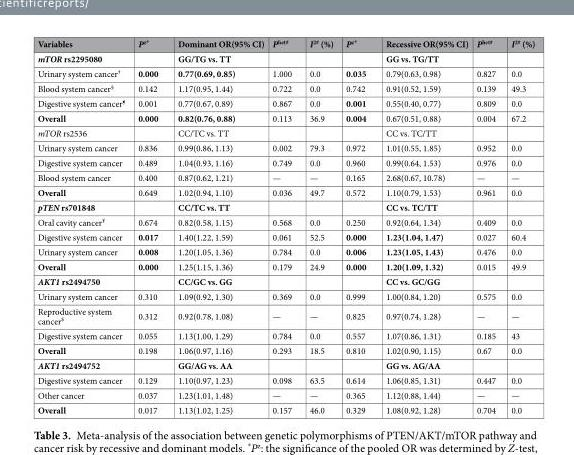table: (36, 37, 534, 415)
table column: (167, 37, 267, 415), (375, 37, 471, 415), (36, 37, 130, 415), (299, 37, 339, 415), (130, 37, 167, 415), (339, 37, 375, 415), (267, 37, 299, 415), (502, 37, 534, 415), (471, 37, 502, 415)
table column header: (36, 37, 534, 50)
table row: (36, 303, 534, 328), (36, 50, 534, 65), (36, 65, 534, 80), (36, 80, 534, 95), (36, 95, 534, 110), (36, 110, 534, 125), (36, 125, 534, 140), (36, 154, 534, 169), (36, 169, 534, 184), (36, 184, 534, 199), (36, 199, 534, 214), (36, 214, 534, 229), (36, 243, 534, 258), (36, 258, 534, 273), (36, 273, 534, 288), (36, 288, 534, 303), (36, 342, 534, 357), (36, 357, 534, 372), (36, 372, 534, 387), (36, 387, 534, 402), (36, 140, 534, 154), (36, 229, 534, 243), (36, 328, 534, 342), (36, 37, 534, 50), (36, 402, 534, 415)
